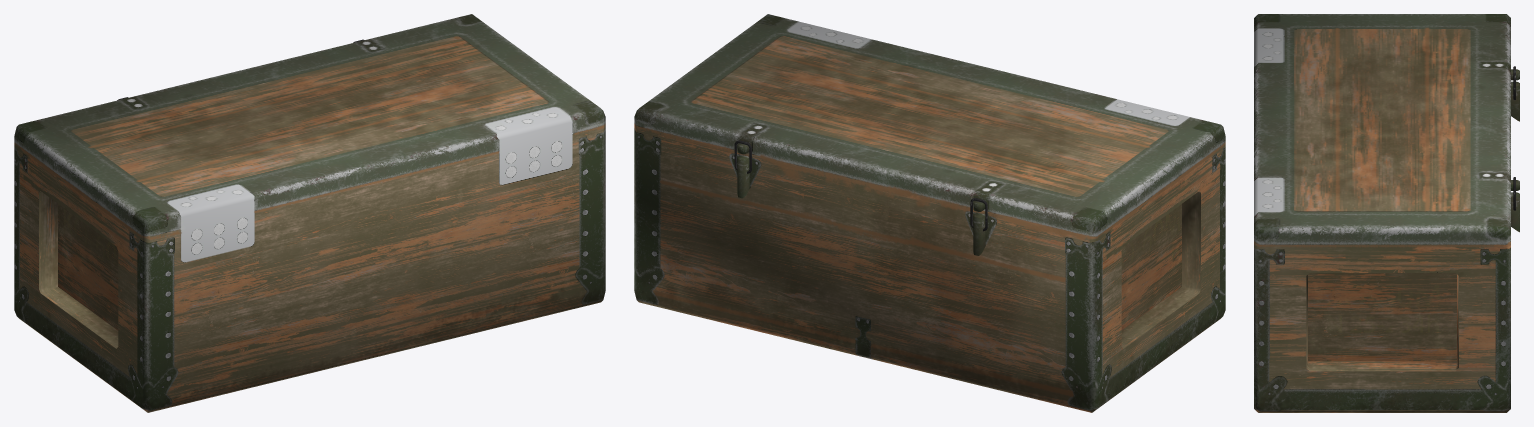
3 views of the same model, side by side, from view 1: azimuth 30°, elevation 25°; view 2: azimuth 150°, elevation 25°; view 3: azimuth 270°, elevation 25° (orthographic). The views are drawn at different scales.
Visible parts, largest first — view 1: objMesh; view 2: objMesh; view 3: objMesh.
Boxes of the visible parts, x1=… form: objMesh: x1=14, y1=14, x2=605, y2=412; objMesh: x1=634, y1=14, x2=1225, y2=412; objMesh: x1=1254, y1=14, x2=1519, y2=412.
Size of the model in its own units: 0.9994 by 0.4 by 0.5173.
